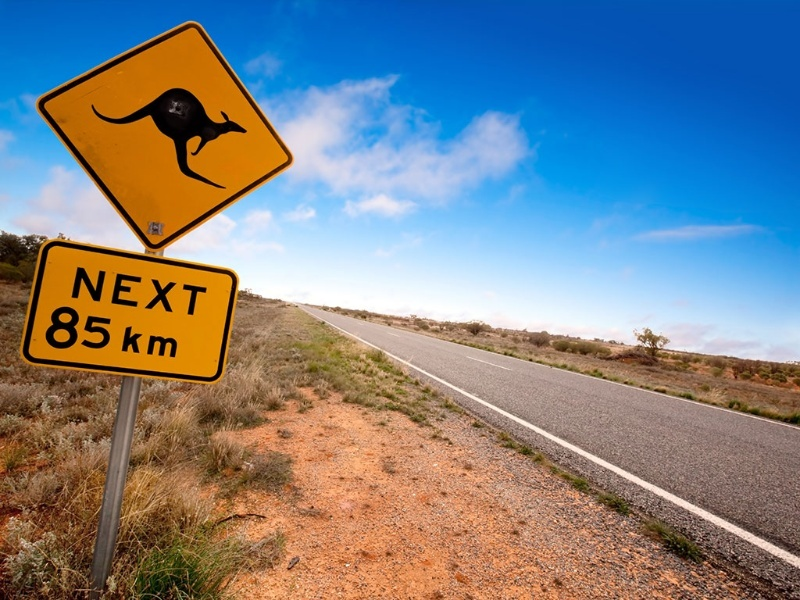text: (65, 302, 80, 357), (81, 302, 96, 357), (97, 302, 112, 357), (81, 265, 96, 318), (97, 265, 112, 318), (113, 265, 128, 318), (129, 265, 144, 318), (145, 265, 160, 318), (161, 265, 176, 318), (177, 265, 192, 318), (193, 265, 208, 318), (53, 302, 64, 357), (129, 324, 144, 358), (145, 324, 160, 358), (161, 324, 176, 358), (75, 265, 80, 318), (113, 302, 117, 357), (177, 324, 181, 358), (125, 324, 128, 358)
